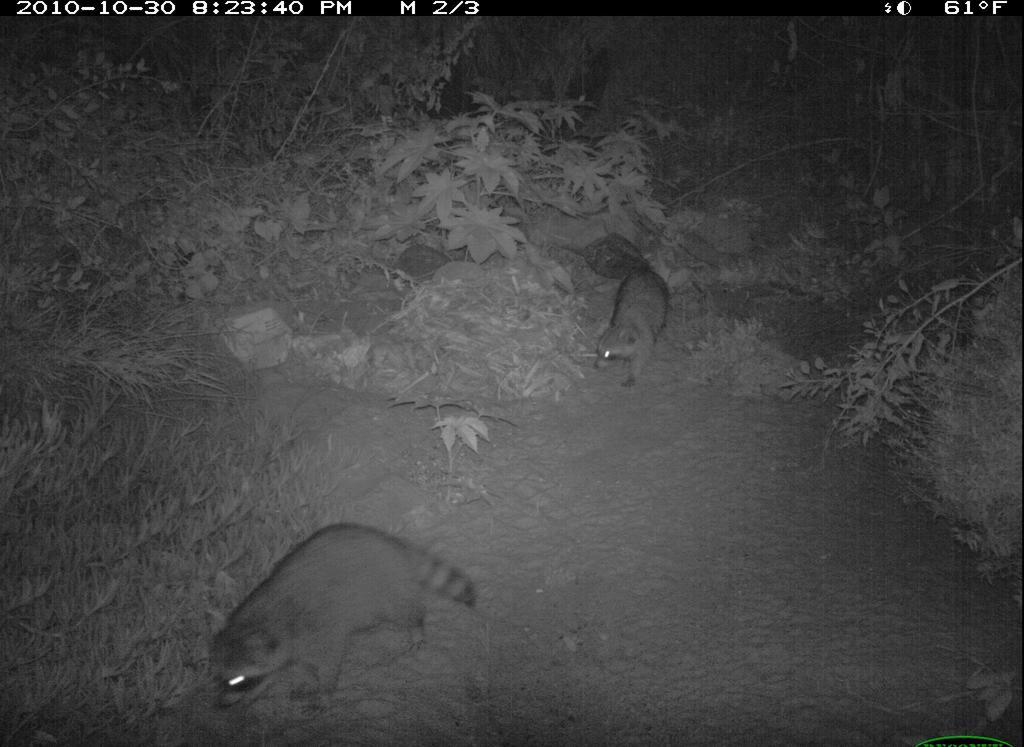raccoon: (190, 510, 484, 725), (565, 248, 684, 396)
